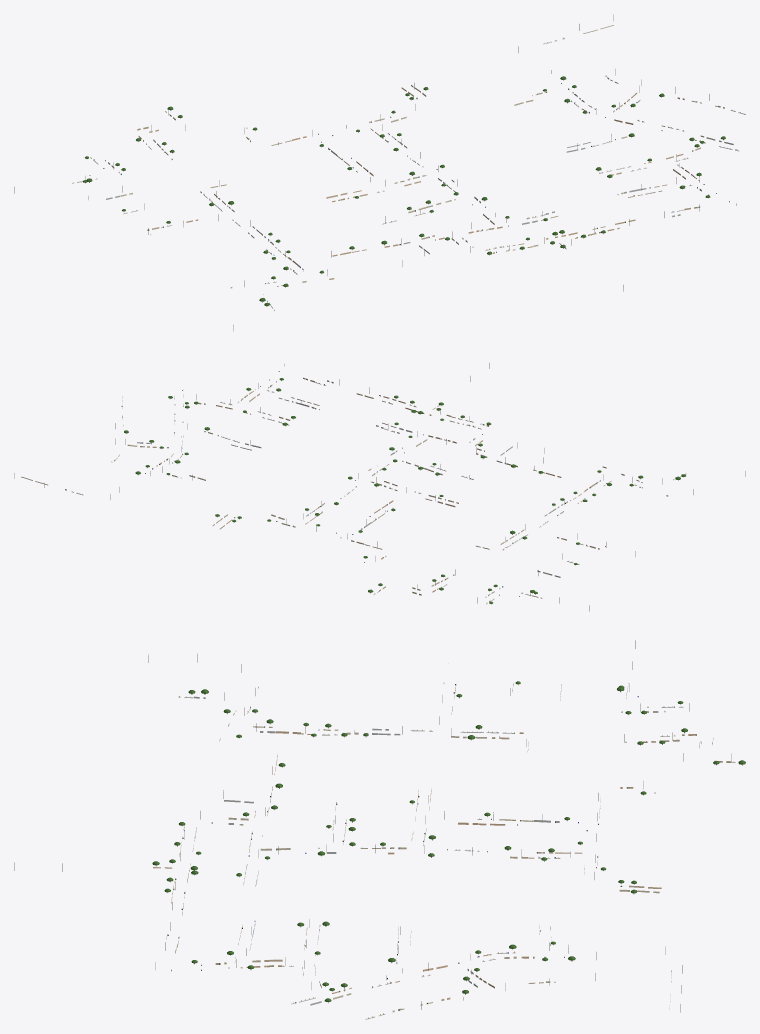
The model's file is nd_stm_m8_m2.glb.
3 renders of one model, top to bottom at view 1: azimuth 30°, elevation 25°; view 2: azimuth 150°, elevation 25°; view 3: azimuth 270°, elevation 25°, orthographic. The views are drawn at different scales.
Parts seen in each view (by area): view 1: nd_stm_m8_m2_lod0; view 2: nd_stm_m8_m2_lod0; view 3: nd_stm_m8_m2_lod0.
Part boxes in pixels (<box>): nd_stm_m8_m2_lod0: <box>14,14,745,331</box>; nd_stm_m8_m2_lod0: <box>14,363,745,611</box>; nd_stm_m8_m2_lod0: <box>14,640,745,1019</box>.
Size of what is drawn, in the model's own units: 773 by 22.62 by 632.
